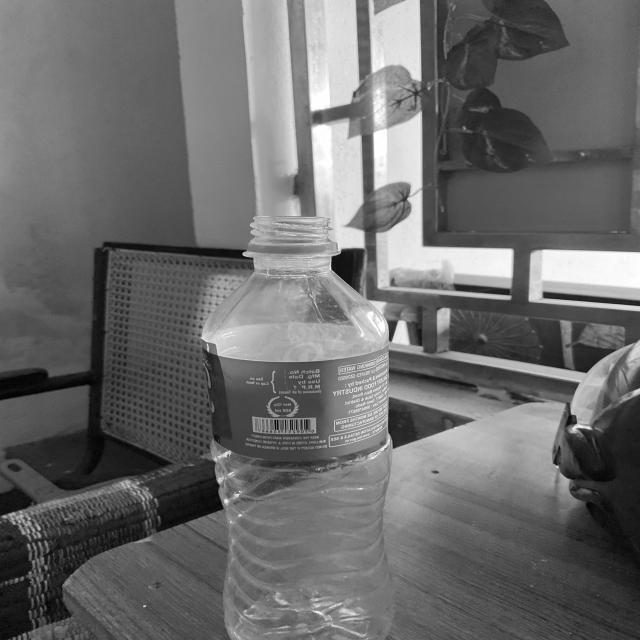open-cap: (244, 214, 338, 261)
